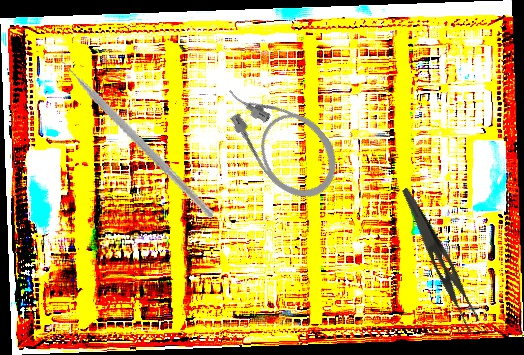Cannula: (211, 61, 352, 213)
Chopper: (31, 41, 245, 219)
Dressing Forceps: (386, 186, 490, 336)
